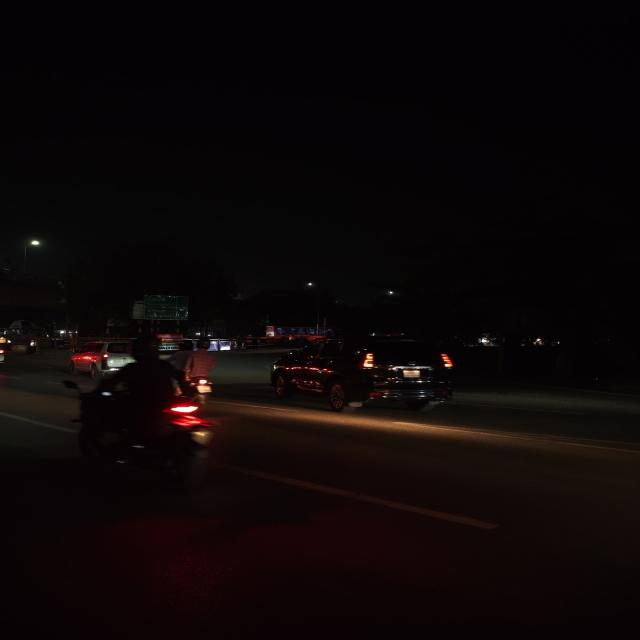car: (269, 331, 470, 422), (68, 335, 128, 377)
motorcycle: (79, 337, 234, 506), (168, 336, 224, 406)
